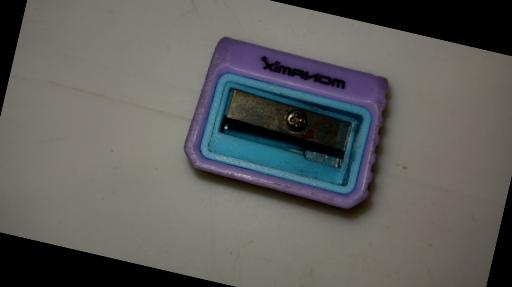Sharpener: (178, 30, 398, 214)
